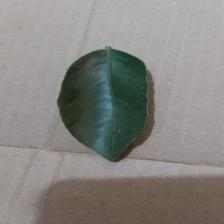healthy: (28, 31, 195, 178)
